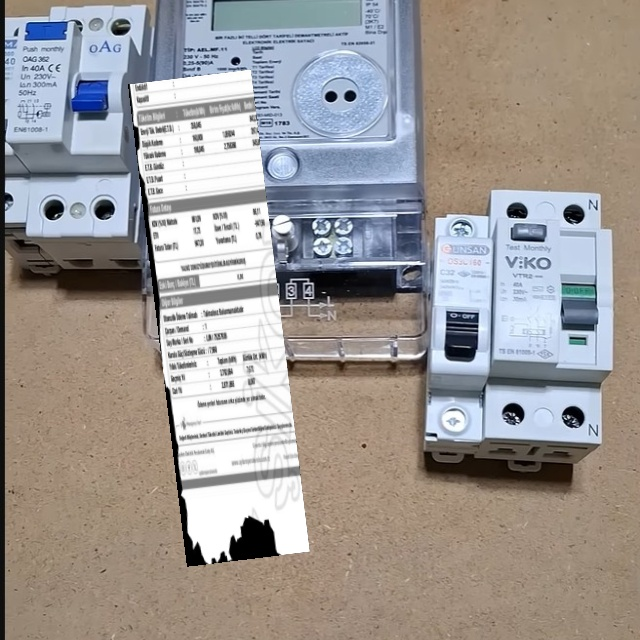electricity-bill: (127, 69, 309, 567)
